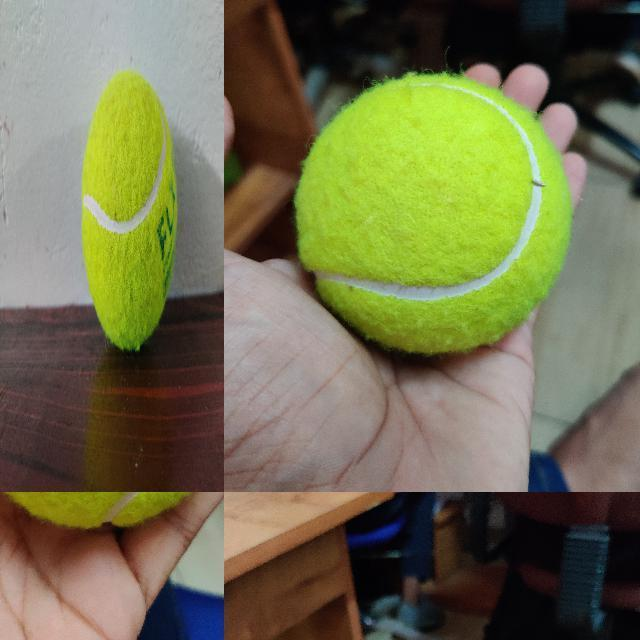tennis-ball: (296, 75, 571, 351), (81, 67, 178, 351), (0, 492, 223, 527)
